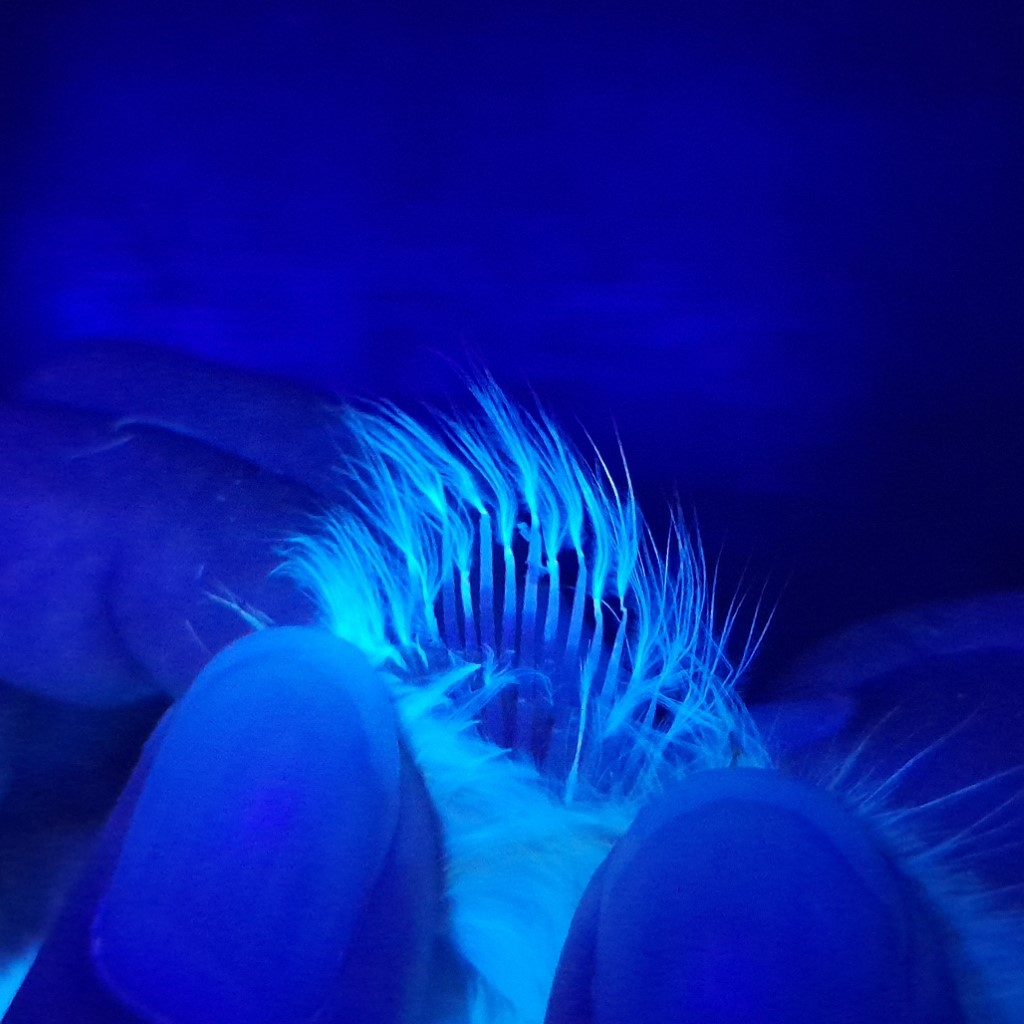male: (362, 486, 725, 847)
